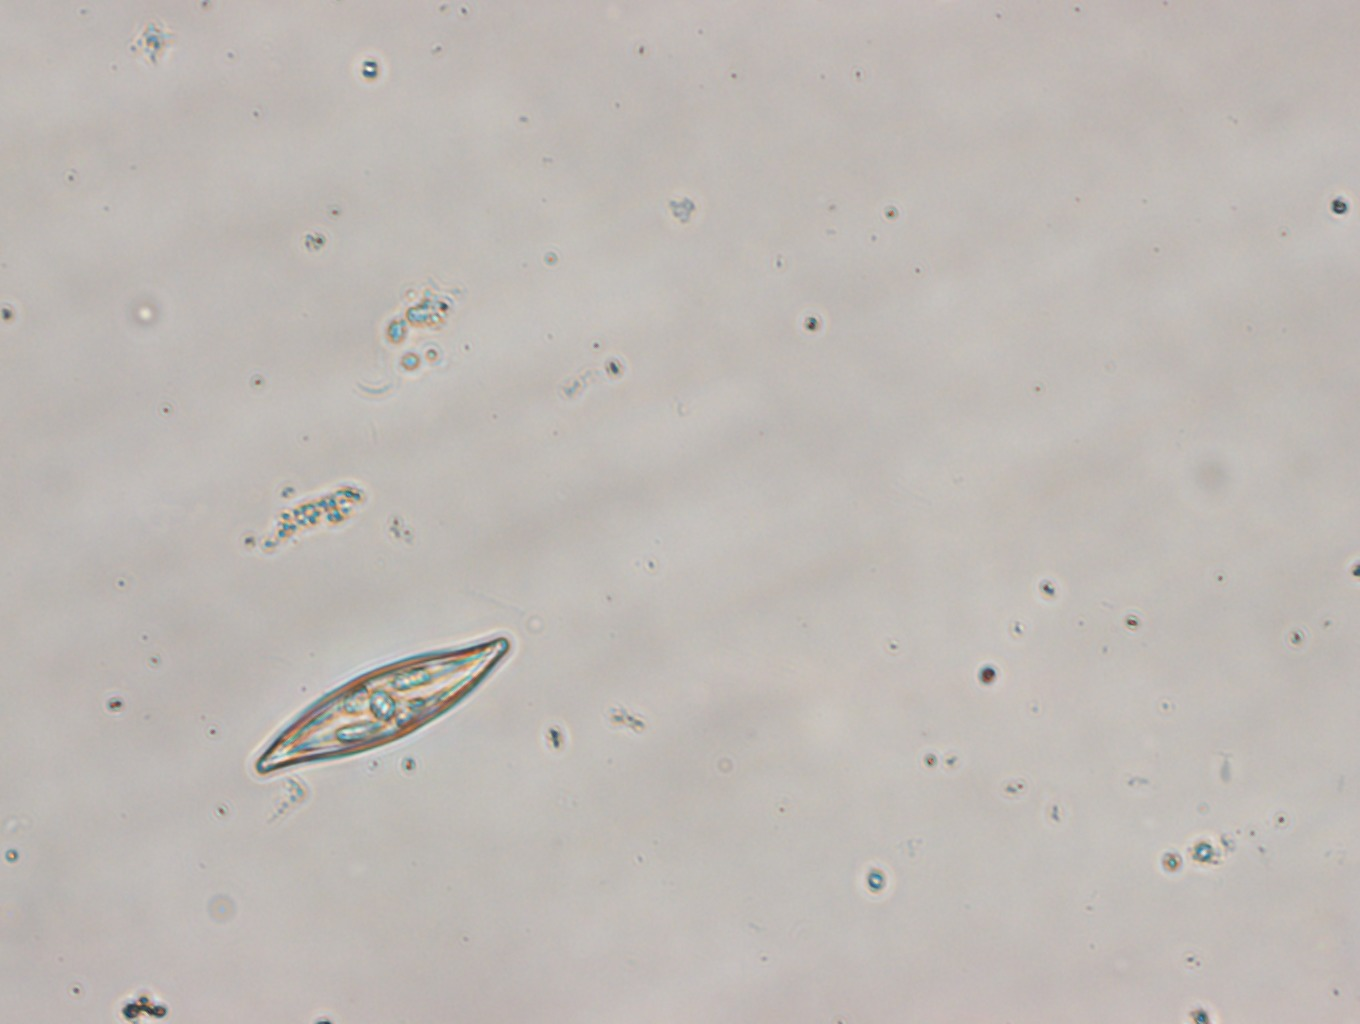pleurosigma pelagicum: (254, 631, 512, 776)
